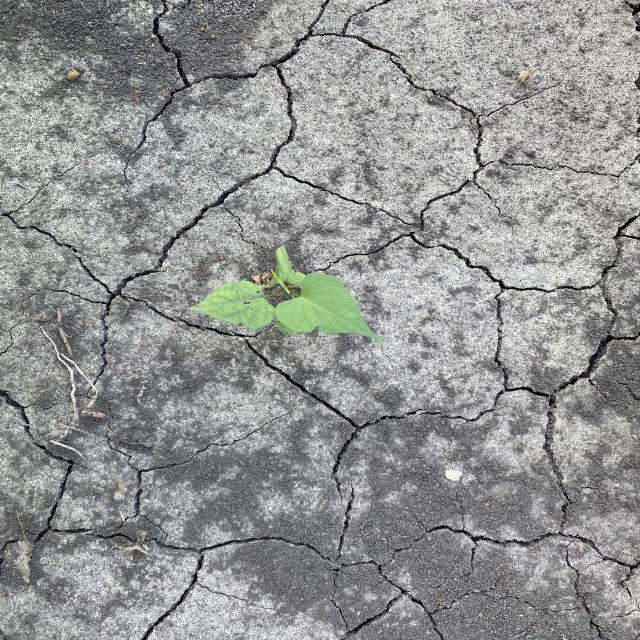MorningGlory: (185, 246, 389, 346)
